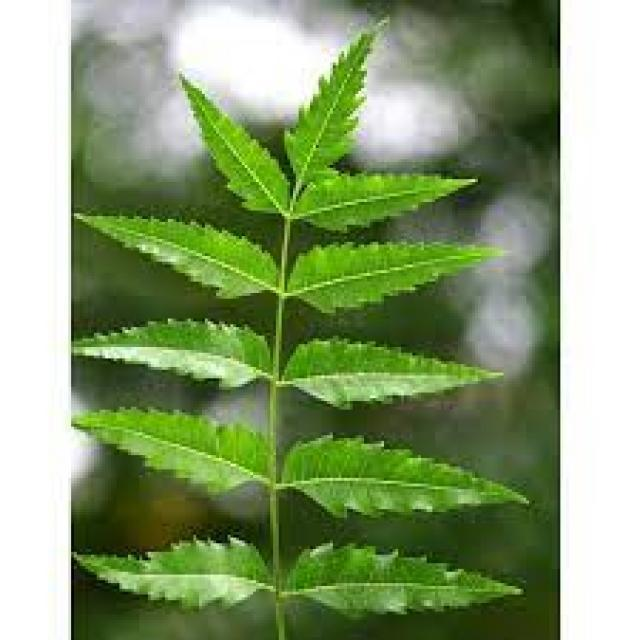Wet: (72, 6, 552, 316)
